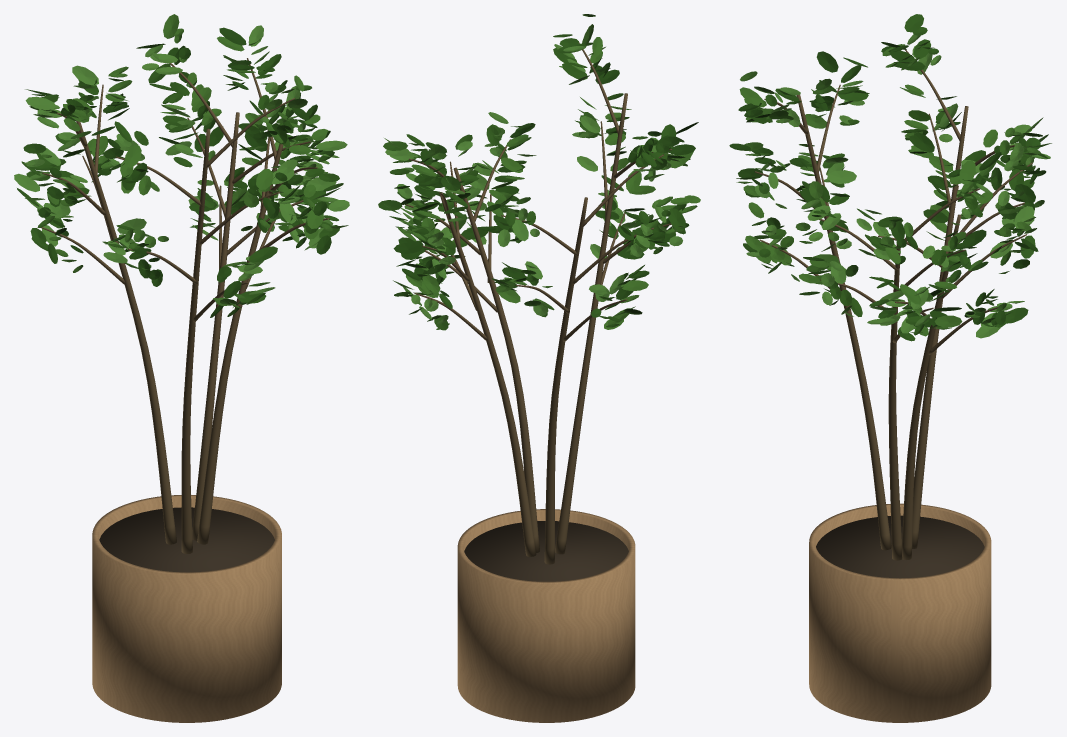
3 views of the same model, side by side, from view 1: azimuth 30°, elevation 25°; view 2: azimuth 150°, elevation 25°; view 3: azimuth 270°, elevation 25° (orthographic). The views are drawn at different scales.
Visible parts, largest first — view 1: Individual small leaves, species unspecified, Cylindrical oak planter with open rim, Main woody stem 0, Visible dark soil; view 2: Cylindrical oak planter with open rim, Individual small leaves, species unspecified, Main woody stem 0, Visible dark soil; view 3: Individual small leaves, species unspecified, Cylindrical oak planter with open rim, Main woody stem 0, Visible dark soil.
Boxes of the visible parts, left/top/right/bottom form: Individual small leaves, species unspecified: left=14, top=14, right=349, bottom=317; Cylindrical oak planter with open rim: left=92, top=495, right=281, bottom=722; Main woody stem 0: left=41, top=58, right=329, bottom=553; Visible dark soil: left=99, top=507, right=274, bottom=572; Cylindrical oak planter with open rim: left=457, top=509, right=635, bottom=722; Individual small leaves, species unspecified: left=378, top=14, right=700, bottom=330; Main woody stem 0: left=405, top=42, right=672, bottom=564; Visible dark soil: left=464, top=521, right=628, bottom=581; Individual small leaves, species unspecified: left=729, top=14, right=1051, bottom=341; Cylindrical oak planter with open rim: left=809, top=503, right=991, bottom=722; Main woody stem 0: left=754, top=49, right=1032, bottom=560; Visible dark soil: left=816, top=515, right=984, bottom=578.
Size of the model in its own units: 0.7309 by 1.54 by 0.7163.
Materials: 7 (1 with a texture image).
